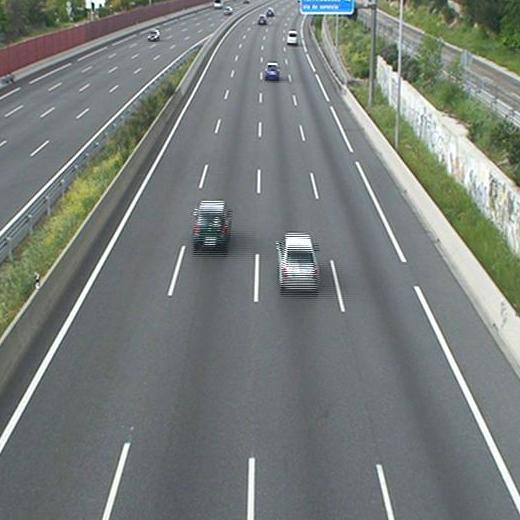car: (277, 235, 319, 289), (194, 201, 229, 242), (263, 63, 280, 79), (286, 31, 298, 45), (257, 15, 267, 24), (266, 8, 274, 16)
